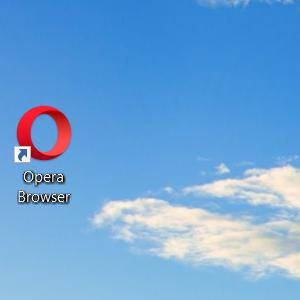opera: (14, 105, 72, 162)
